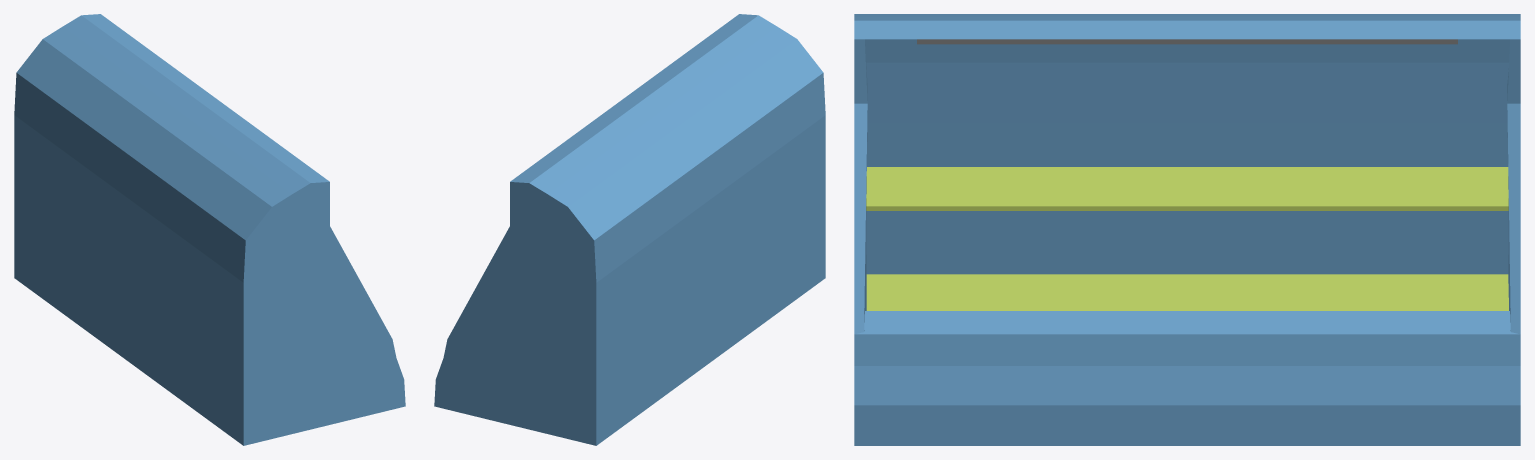
Rendered from custom_fridge_alt.fbx.
3 views of the same model, side by side, from view 1: azimuth 30°, elevation 25°; view 2: azimuth 150°, elevation 25°; view 3: azimuth 270°, elevation 25° (orthographic). The views are drawn at different scales.
Visible parts, largest first — view 1: Cube; view 2: Cube; view 3: Cube, Cube.002, Cube.001, Cylinder.
Boxes of the visible parts, x1,y1,x2,y2 form: Cube: (14,14,405,445); Cube: (434,14,825,445); Cube: (854,14,1520,445); Cube.002: (866,167,1508,210); Cube.001: (866,274,1508,310); Cylinder: (917,39,1457,44).
Bounding box in the file's own units: 311 × 453 × 763.
